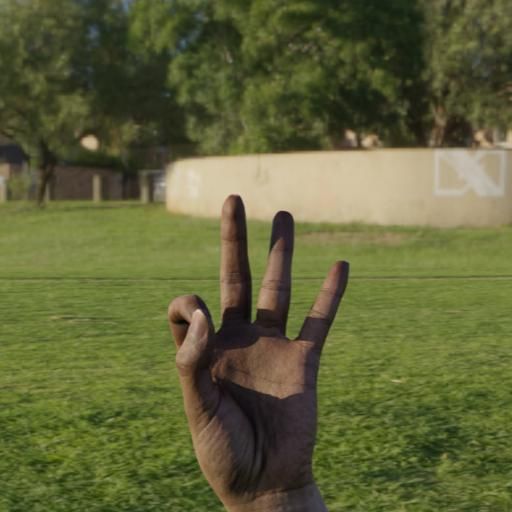F: (149, 184, 370, 512)
